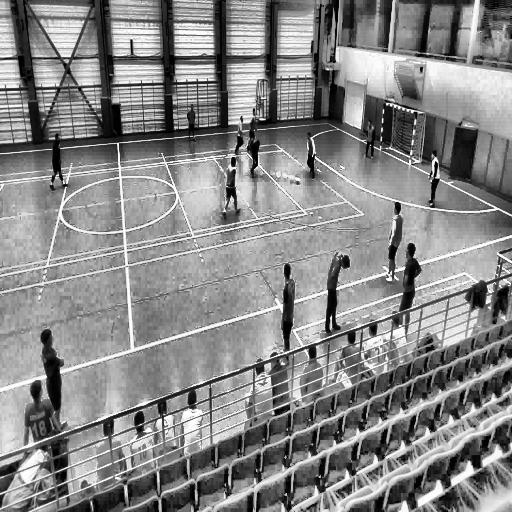ball: (296, 176, 302, 188)
player: (40, 328, 66, 430), (323, 249, 352, 333), (399, 243, 421, 335), (280, 262, 296, 361), (386, 202, 402, 281), (222, 155, 240, 222), (49, 132, 68, 192), (426, 149, 440, 208), (248, 127, 260, 180), (362, 118, 375, 162), (233, 114, 246, 158), (306, 130, 316, 181), (248, 106, 258, 153), (187, 103, 198, 141)
